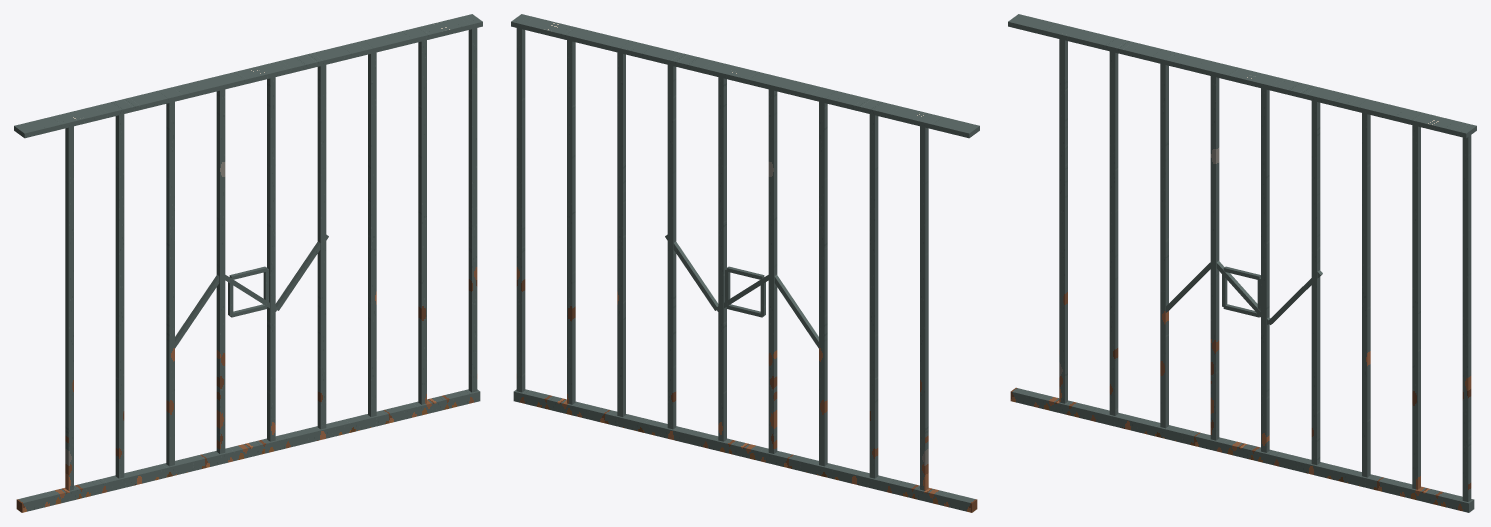
The model's file is LanCan_Thang.glb.
3 renders of one model, left to right at view 1: azimuth 30°, elevation 25°; view 2: azimuth 150°, elevation 25°; view 3: azimuth 330°, elevation 25°, orthographic.
Visible parts, largest first — view 1: geometry_0; view 2: geometry_0; view 3: geometry_0.
Part boxes in pixels (<box>): geometry_0: <box>14,14,482,512</box>; geometry_0: <box>511,14,979,512</box>; geometry_0: <box>1008,14,1476,512</box>.
Bounding box in the file's own units: 1 × 0.795 × 0.04.
Materials: 1 (1 with a texture image).
